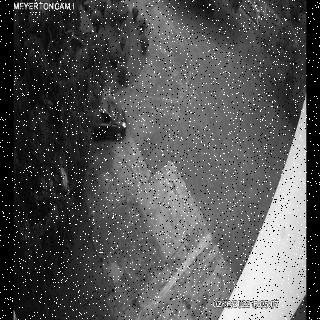car: (20, 168, 70, 240), (91, 94, 126, 142)
